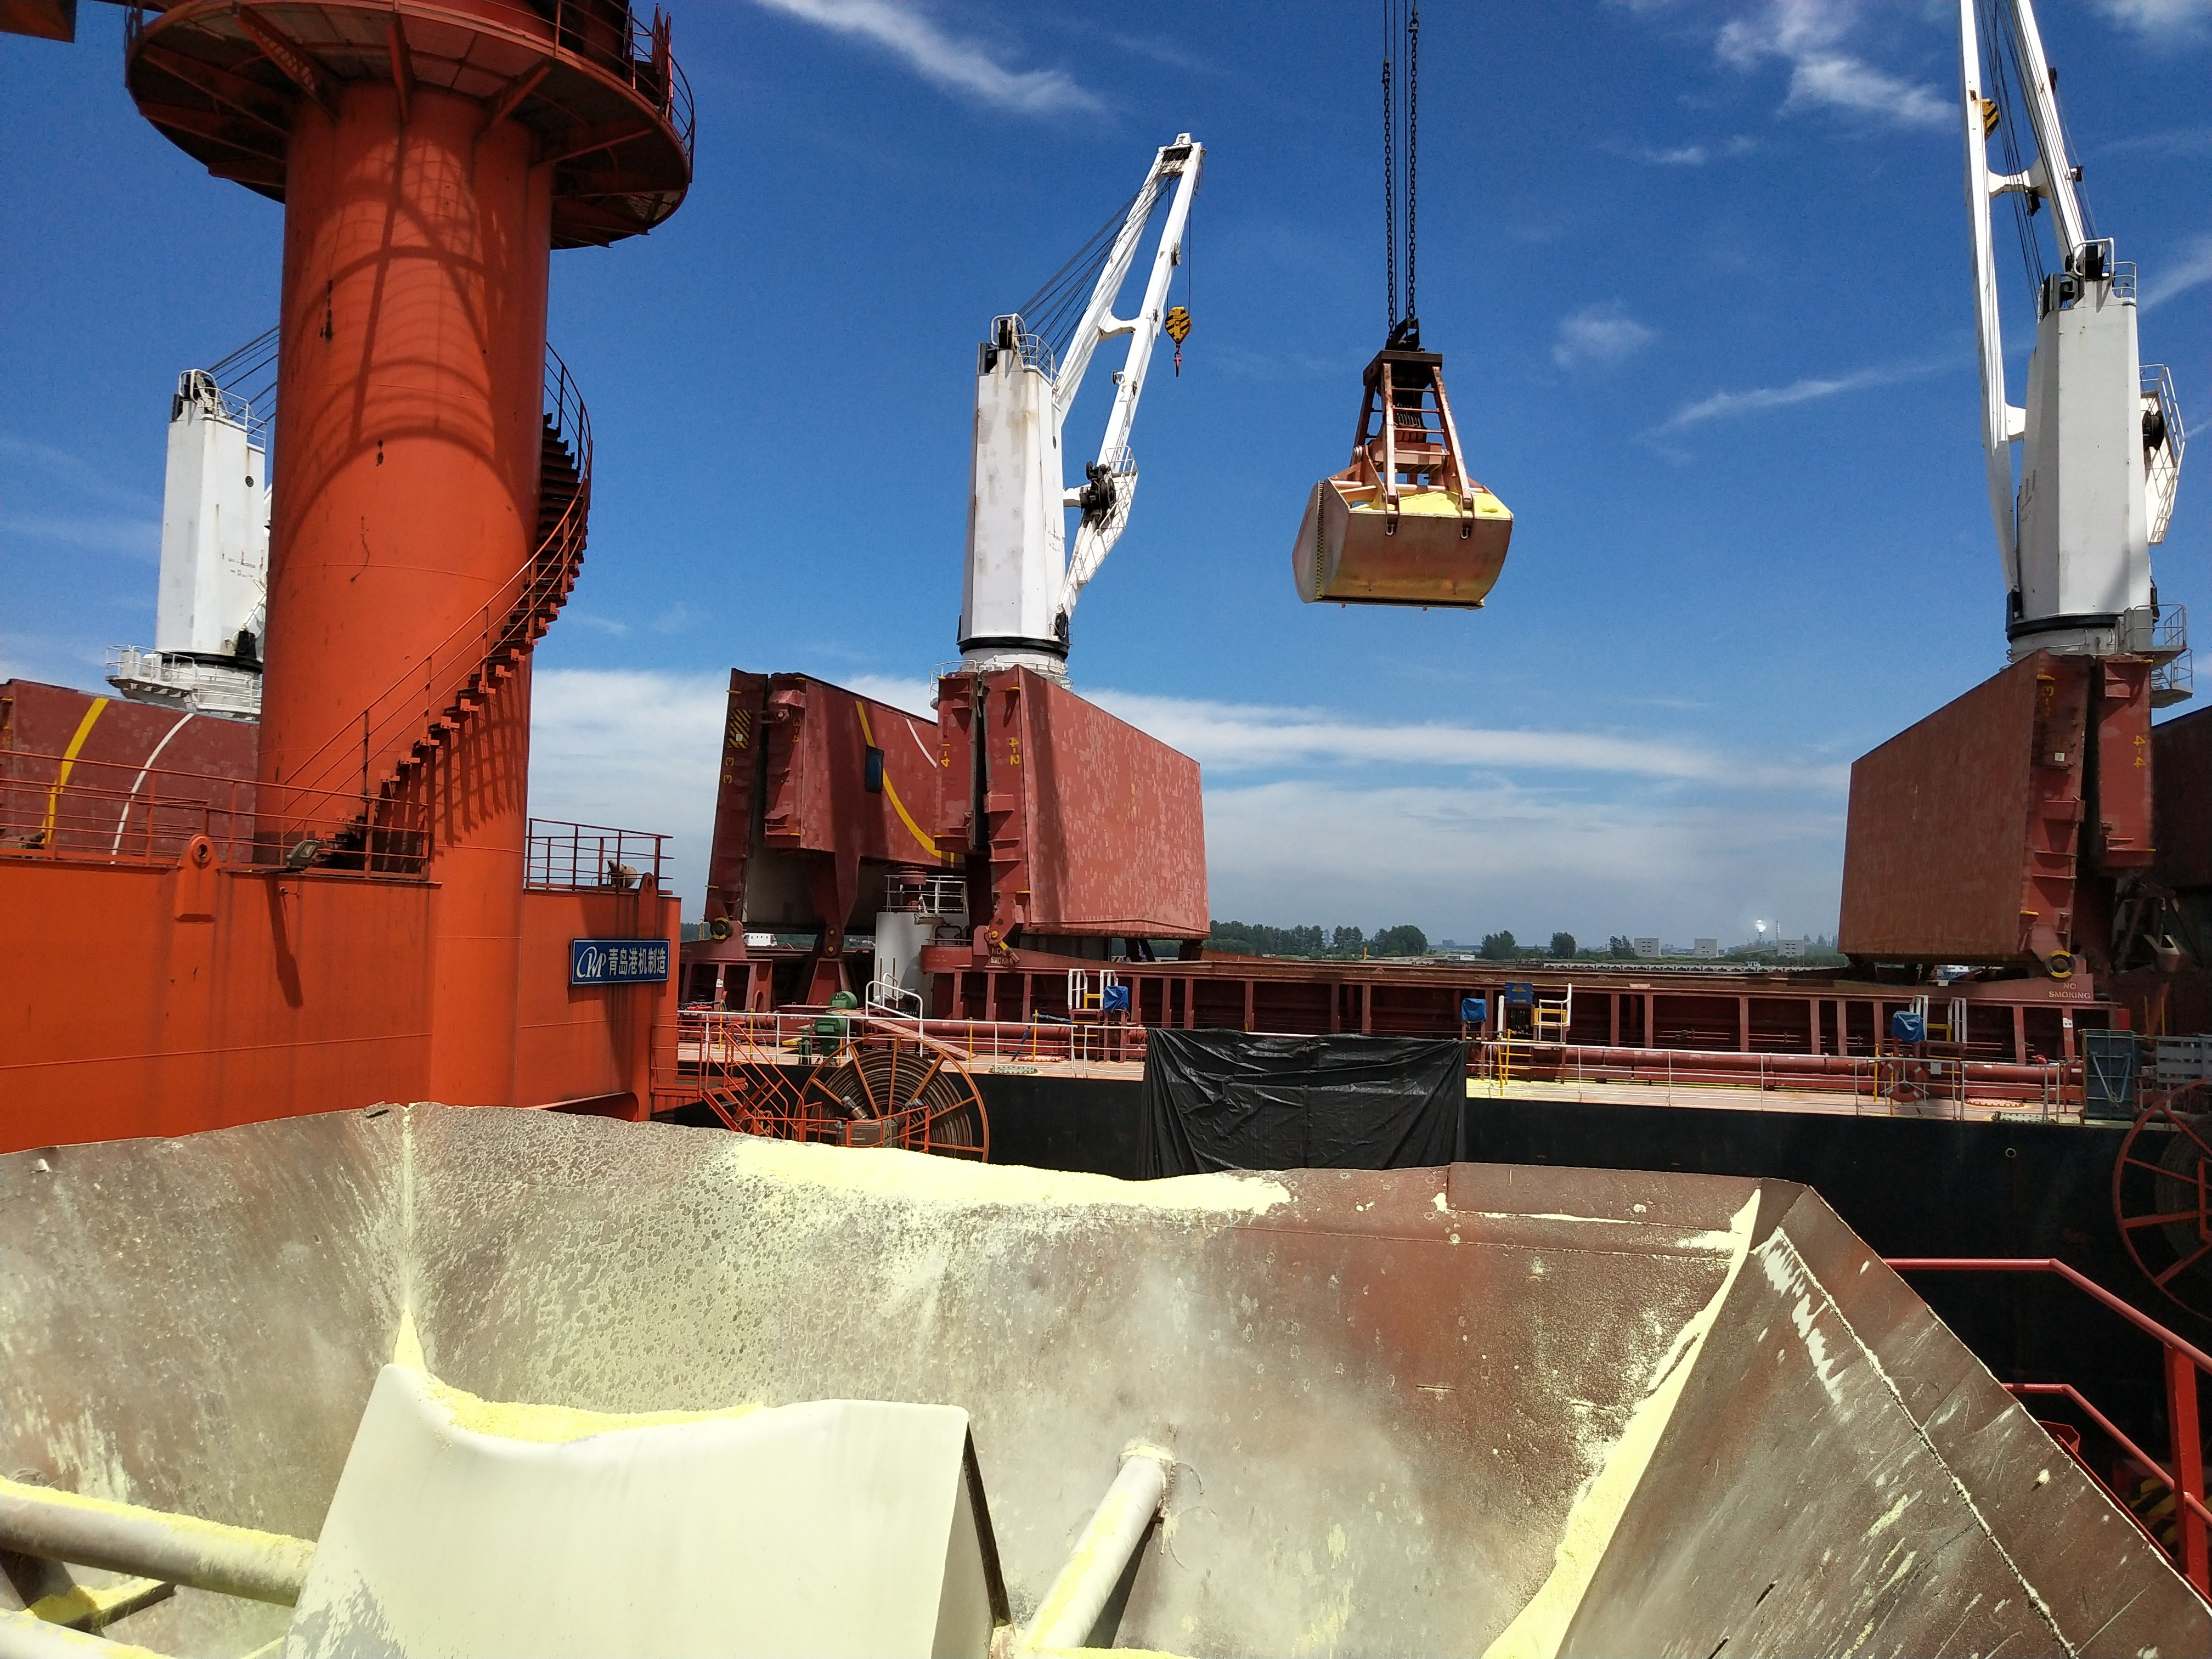grab: (1278, 296, 1526, 619)
